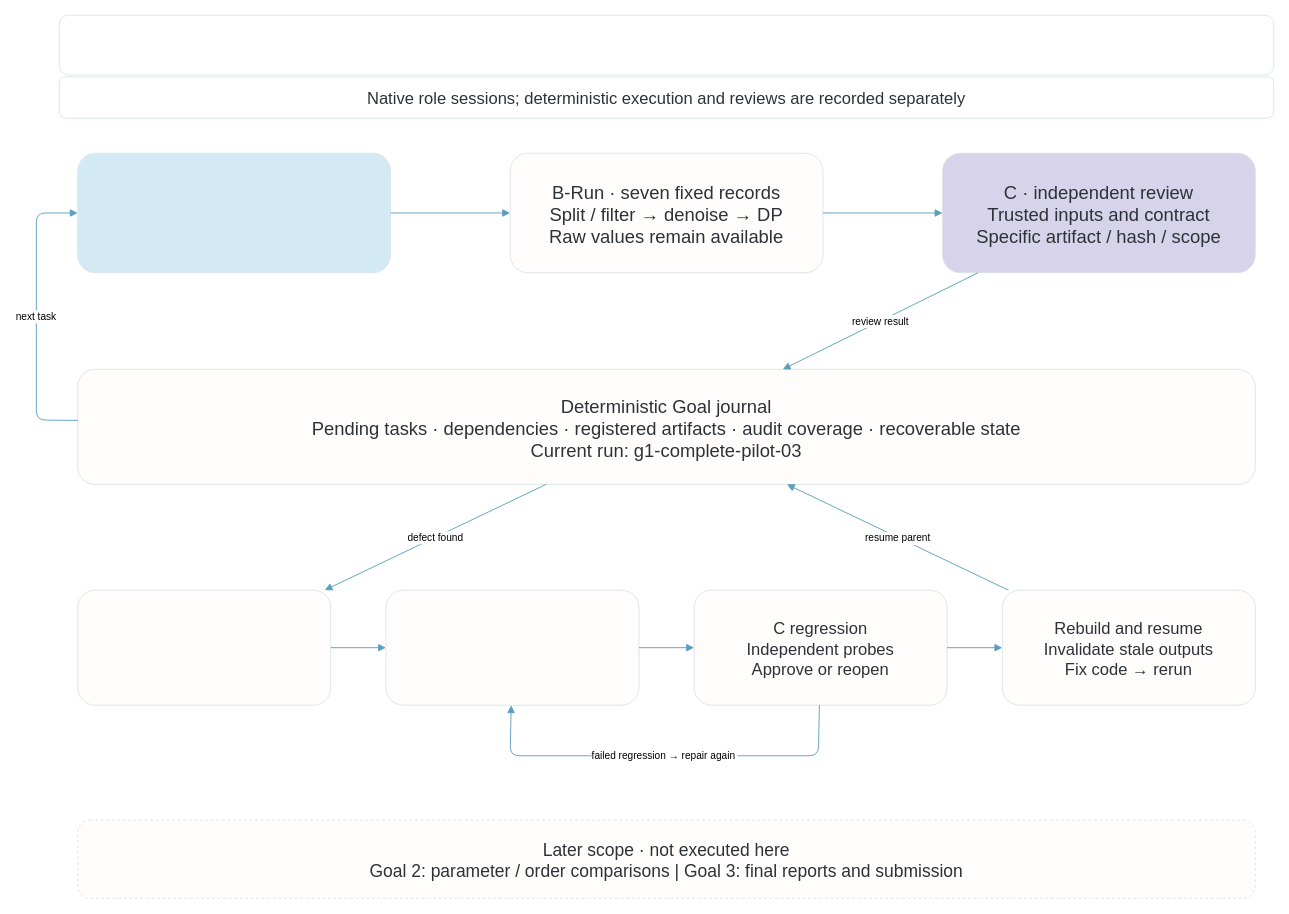
The diagram is 1289 pixels wide and 914 high, and some of its shapes have lost their labels. The shapes that lost their labels are listed below. From the top down, each one's box as (x1, y1, x2, y2) in pixels, then its label:
(58, 14, 1274, 75): Goal 1 · actual roles, tools and repair return
(77, 152, 391, 273): A · plan and follow-up Approved method space Evidence-based next action
(77, 589, 331, 705): Actual external issues C2-F01 / C2-F02 Parent task blocked
(385, 589, 639, 705): B-Repair Consume task → repair Tests + visible receipt
